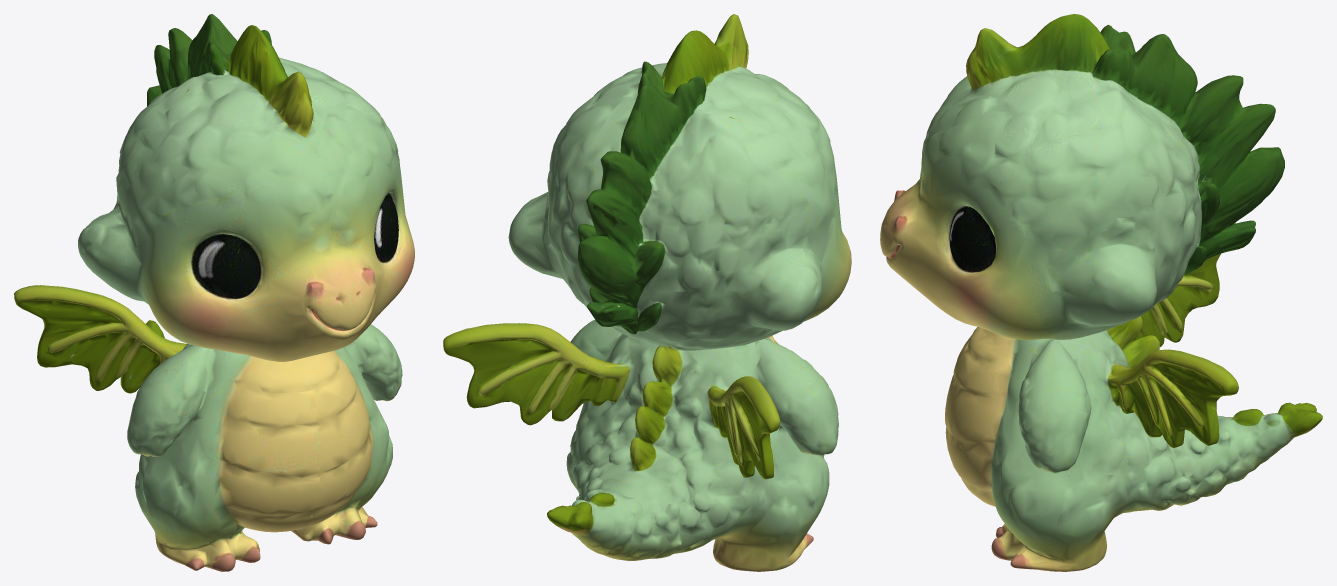
File: blaetterdrache.glb
3 views of the same model, side by side, from view 1: azimuth 30°, elevation 25°; view 2: azimuth 150°, elevation 25°; view 3: azimuth 270°, elevation 25° (orthographic).
Size of the model in its own units: 0.6868 by 1 by 0.7866.
1 material, 1 textured.
